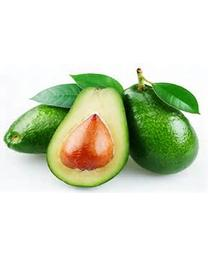avocado: (45, 84, 131, 188), (120, 82, 200, 175), (4, 103, 67, 157)
